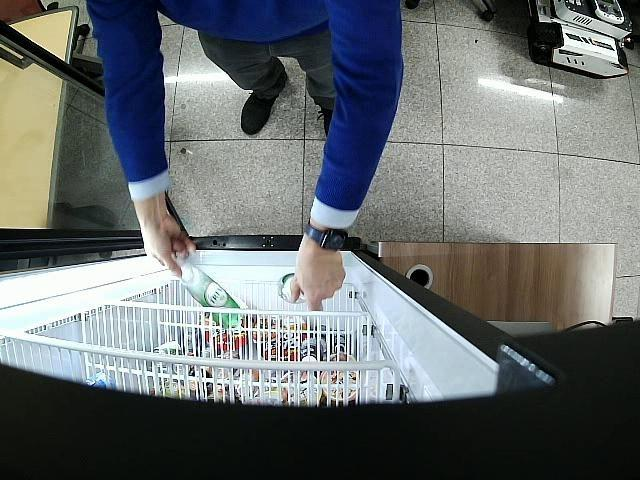18_trevi: (176, 258, 242, 328), (278, 272, 306, 304)
